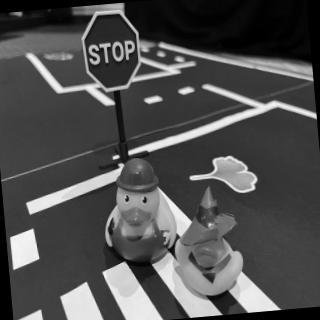duck_regular: (168, 187, 248, 304)
duck_specialty: (102, 158, 180, 269)
road_crosswalk: (8, 230, 229, 320)
sign_stop: (80, 9, 145, 97)
